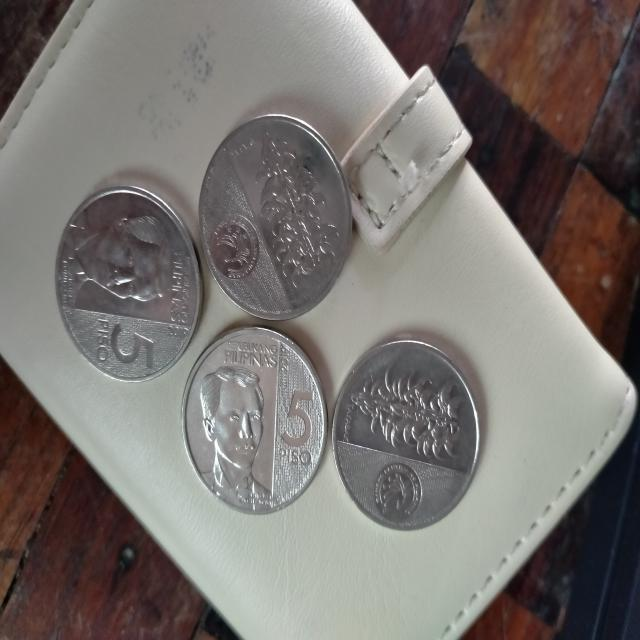5_New_Back: (250, 125, 336, 292), (340, 359, 467, 470)
5_New_Front: (88, 312, 161, 379), (267, 383, 320, 475)
